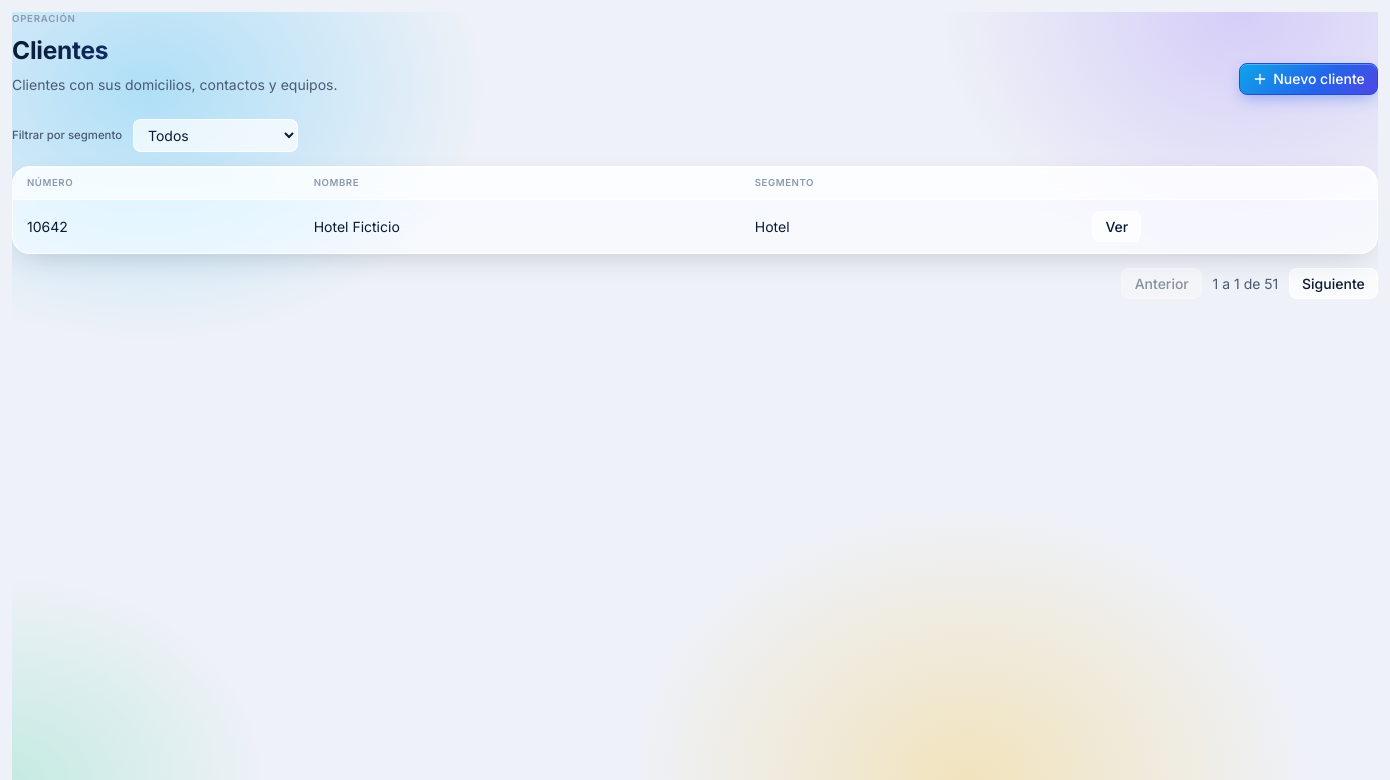
Test case: ClientsPage › lista los clientes con número, nombre y segmento y pasa de página
The width and height of the screenshot is (1390, 780).
Expected: the cell "Hotel Ficticio" is shown, [300, 200, 741, 253]
Expected: the cell "10642" is shown, [13, 200, 300, 253]
Click the button "Siguiente": point(1333, 284) [1289, 268, 1378, 299]
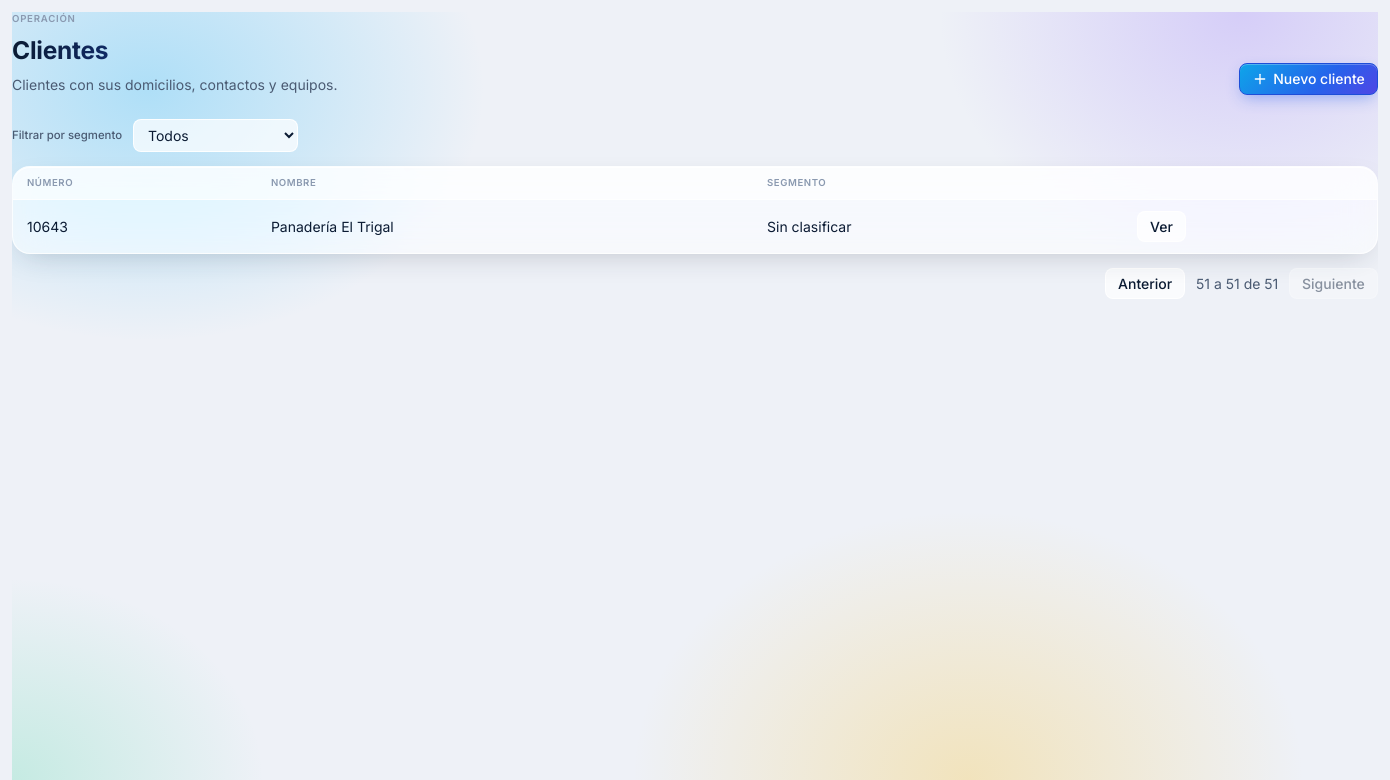
Now the cell "Panadería El Trigal" is shown, box [257, 200, 753, 253]
Now the cell "Sin clasificar" is shown, box [753, 200, 1123, 253]
Now the button "Siguiente" is disabled, box [1289, 268, 1378, 299]
